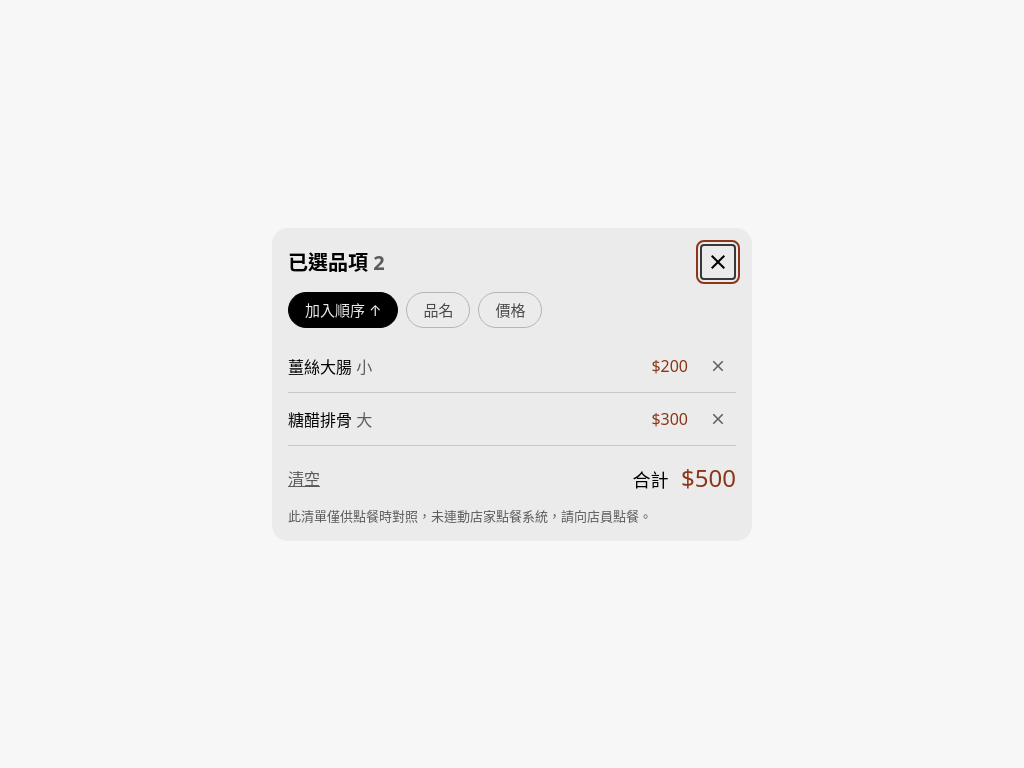
CheckoutDialogComponent › should list items with total and allow removing
Check: the number of list items with class "sheet-row" is 2, box [288,340,736,392]; [288,392,736,446]
Step 1. Click the 1st button with class "remove" → (718, 366), box [700,348,736,384]
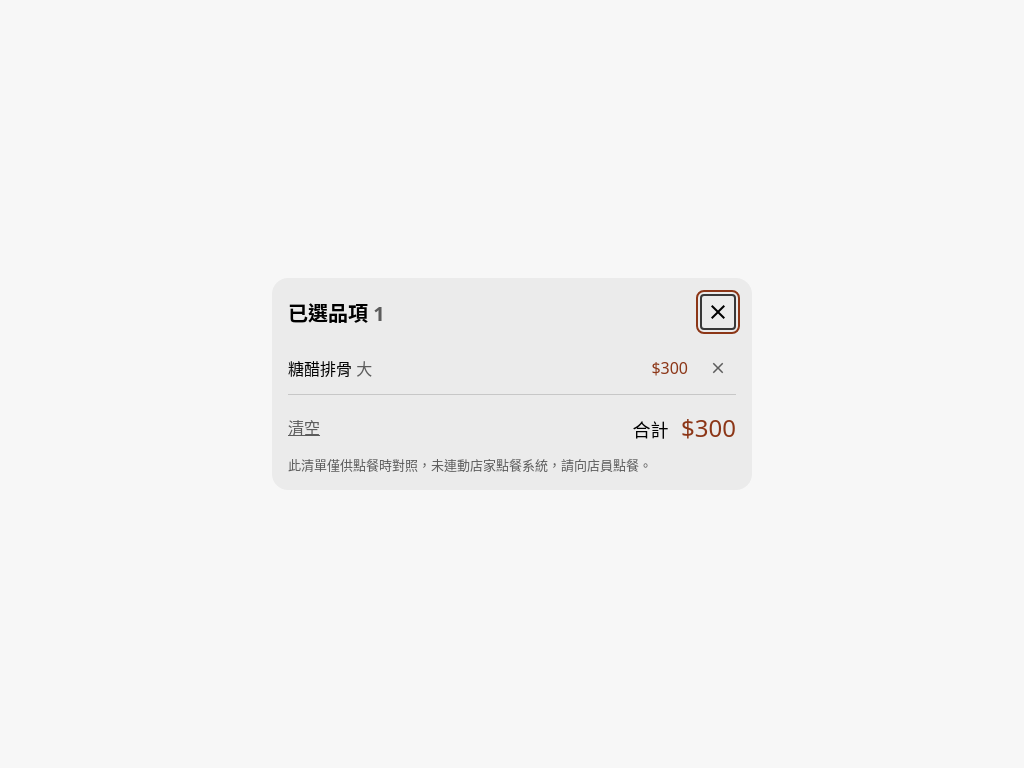
Check: the number of list items with class "sheet-row" is 1, box [288,342,736,395]
